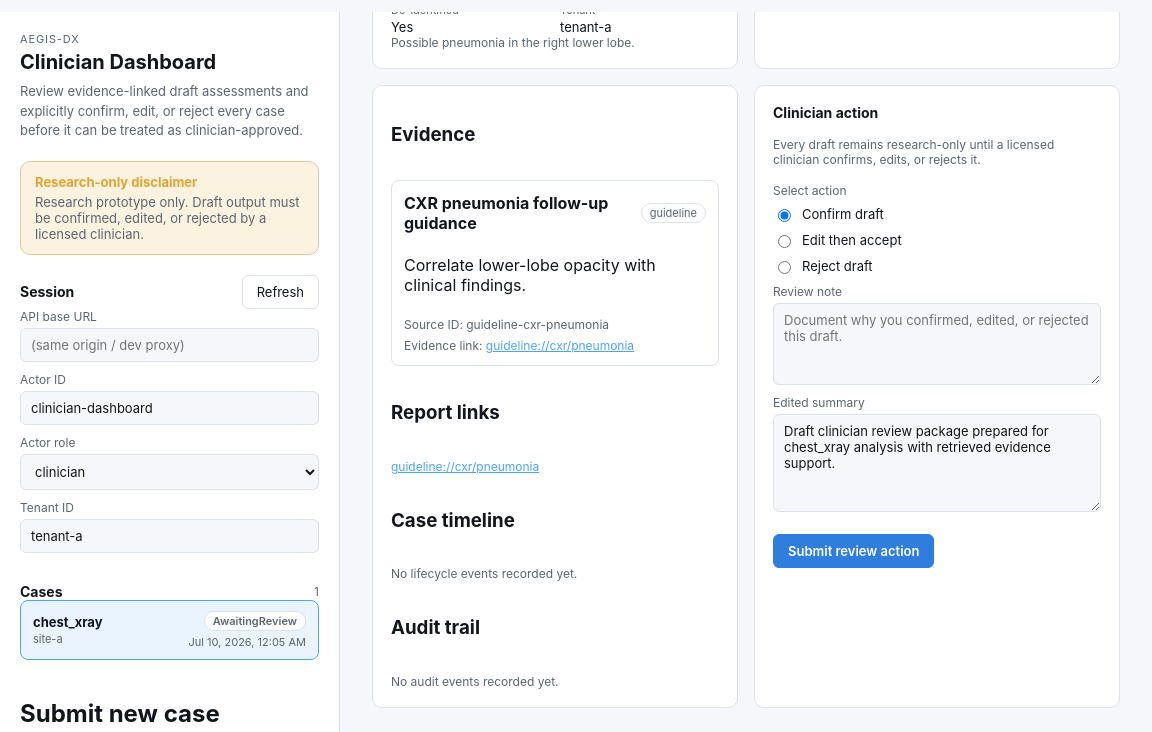
it: App › submits a confirm review action to the current backend route
(page scrolled)
Step 1. Click the button "Submit review action" → (854, 551), box 773,534 -> 934,568
(page scrolled)
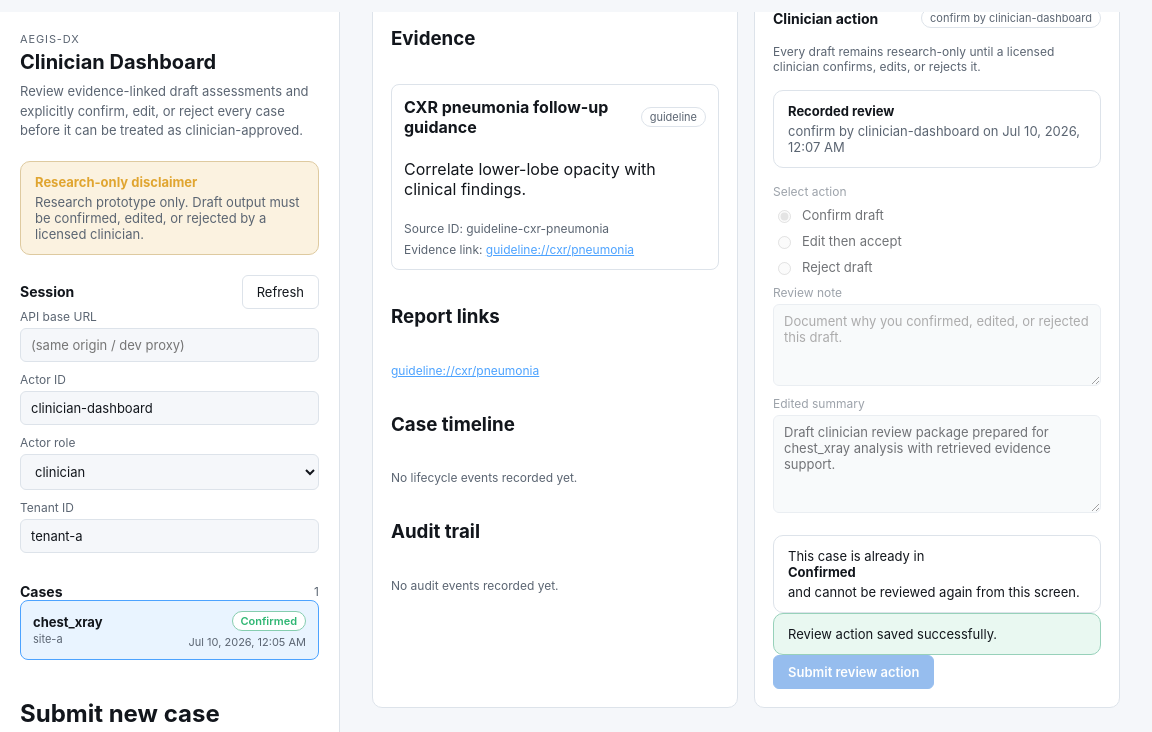
Now the text "Review action saved successfully." is shown, box 773,613 -> 1101,655
